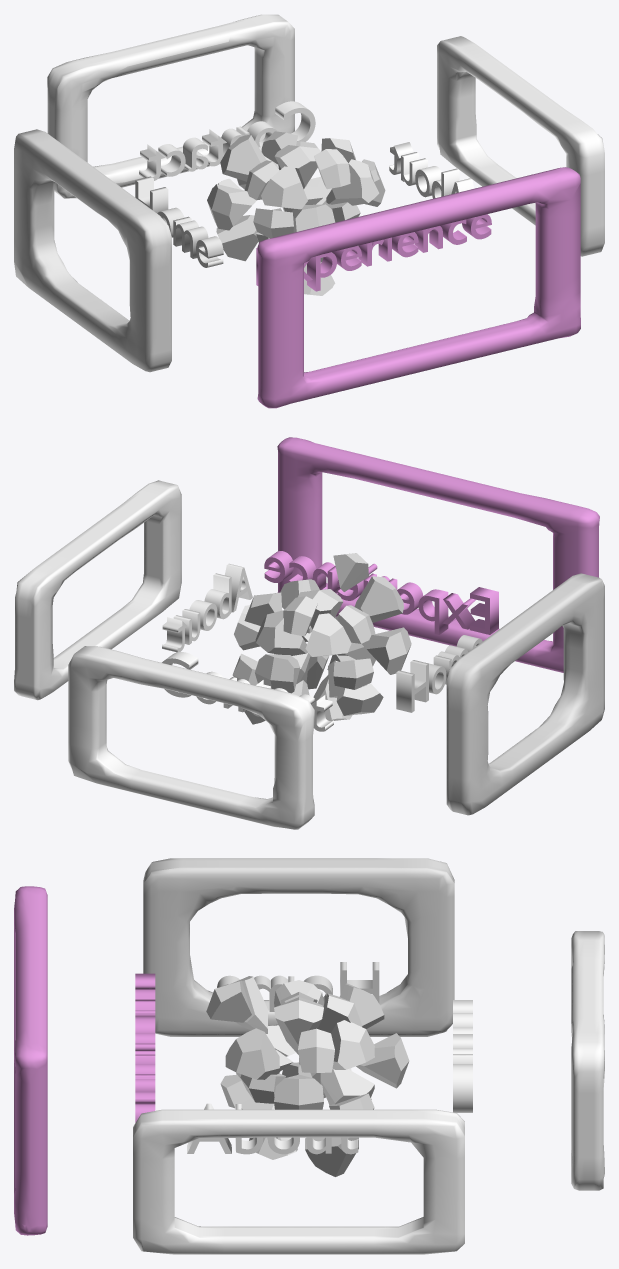
File: menuScene-lpiRcVM-.glb
3 renders of one model, top to bottom at view 1: azimuth 30°, elevation 25°; view 2: azimuth 150°, elevation 25°; view 3: azimuth 270°, elevation 25°, orthographic. The views are drawn at different scales.
Parts seen in each view (by area): view 1: Portal_Exp, Portal_Home, Portal_Contact, Portal_About, Text_Exp, Text.Contact, Text._Home, Text_About, Cube_cell.022, Cube_cell.002, Cube_cell.006, Cube_cell.004 (+7 smaller); view 2: Portal_Home, Portal_Contact, Portal_Exp, Portal_About, Text_Exp, Text_About, Text._Home, Text.Contact, Cube_cell.006, Cube_cell.022, Cube_cell, Cube_cell.004 (+12 smaller); view 3: Portal_Home, Portal_About, Portal_Exp, Portal_Contact, Text_Exp, Text.Contact, Cube_cell.002, Text_About, Text._Home, Cube_cell, Cube_cell.025, Cube_cell.020 (+11 smaller).
Boxes of the visible parts, bbox=[...] form: Portal_Exp: bbox=[257, 167, 580, 408]; Portal_Home: bbox=[14, 129, 171, 372]; Portal_Contact: bbox=[47, 14, 294, 198]; Portal_About: bbox=[437, 36, 604, 256]; Text_Exp: bbox=[256, 214, 491, 291]; Text.Contact: bbox=[139, 101, 315, 180]; Text._Home: bbox=[135, 176, 223, 267]; Text_About: bbox=[389, 142, 474, 198]; Cube_cell.022: bbox=[207, 184, 256, 230]; Cube_cell.002: bbox=[326, 159, 379, 205]; Cube_cell.006: bbox=[261, 166, 307, 209]; Cube_cell.004: bbox=[220, 135, 266, 181]; Portal_Home: bbox=[446, 573, 604, 815]; Portal_Contact: bbox=[68, 646, 314, 829]; Portal_Exp: bbox=[277, 437, 599, 672]; Portal_About: bbox=[14, 480, 181, 700]; Text_Exp: bbox=[264, 551, 498, 634]; Text_About: bbox=[162, 563, 252, 652]; Text._Home: bbox=[396, 635, 482, 712]; Text.Contact: bbox=[162, 652, 333, 731]; Cube_cell.006: bbox=[354, 576, 403, 622]; Cube_cell.022: bbox=[361, 627, 411, 674]; Cube_cell: bbox=[255, 610, 307, 655]; Cube_cell.004: bbox=[305, 613, 351, 656]; Portal_Home: bbox=[143, 858, 454, 1036]; Portal_About: bbox=[133, 1109, 464, 1254]; Portal_Exp: bbox=[14, 886, 47, 1235]; Portal_Contact: bbox=[571, 931, 604, 1190]; Text_Exp: bbox=[135, 973, 155, 1122]; Text.Contact: bbox=[453, 1000, 472, 1112]; Cube_cell.002: bbox=[225, 1028, 279, 1079]; Text_About: bbox=[187, 1103, 358, 1154]; Text._Home: bbox=[217, 962, 379, 1011]; Cube_cell: bbox=[331, 1020, 374, 1069]; Cube_cell.025: bbox=[356, 1033, 409, 1088]; Cube_cell.020: bbox=[274, 997, 323, 1054].
Bounding box in the file's own units: 8.79 × 3.1 × 8.81.
